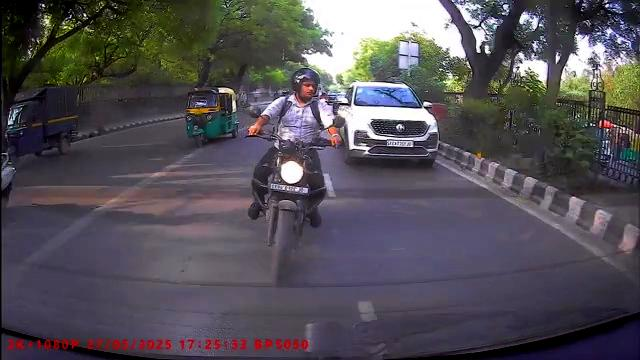motorcycle_with_helmet: (243, 65, 342, 287)
